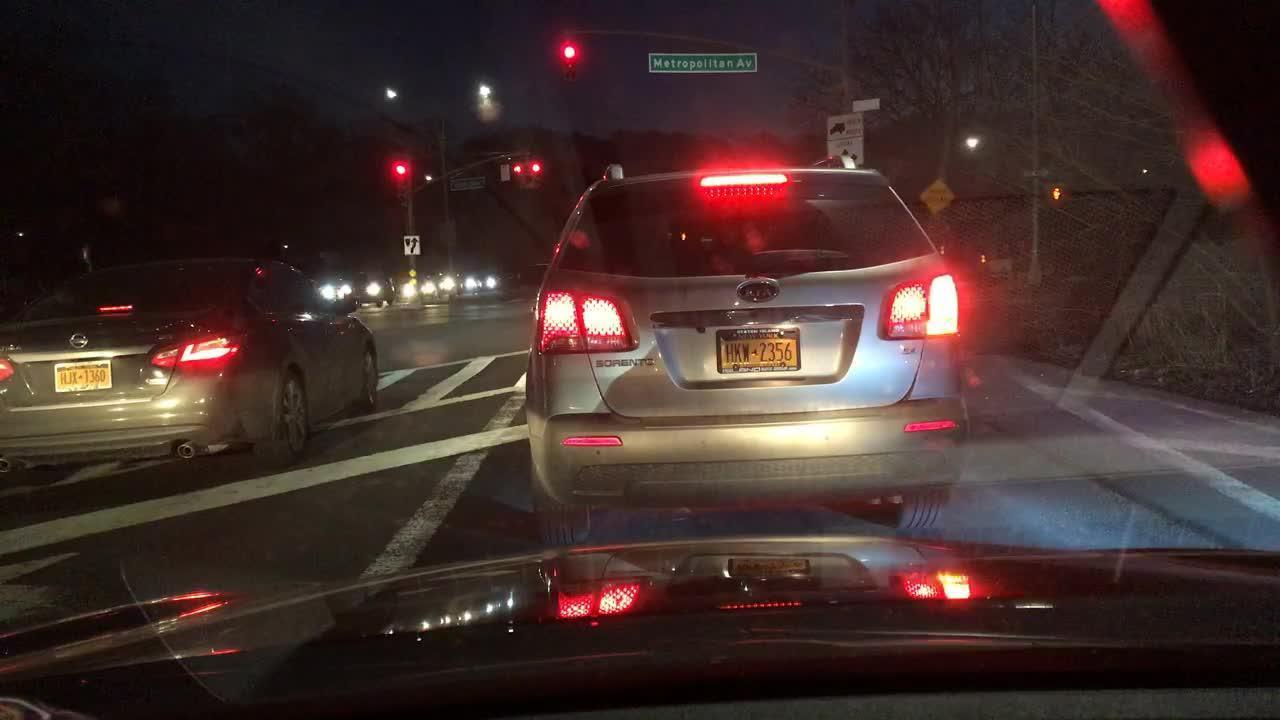Nissan: (66, 330, 94, 349)
kia: (733, 277, 780, 304)
